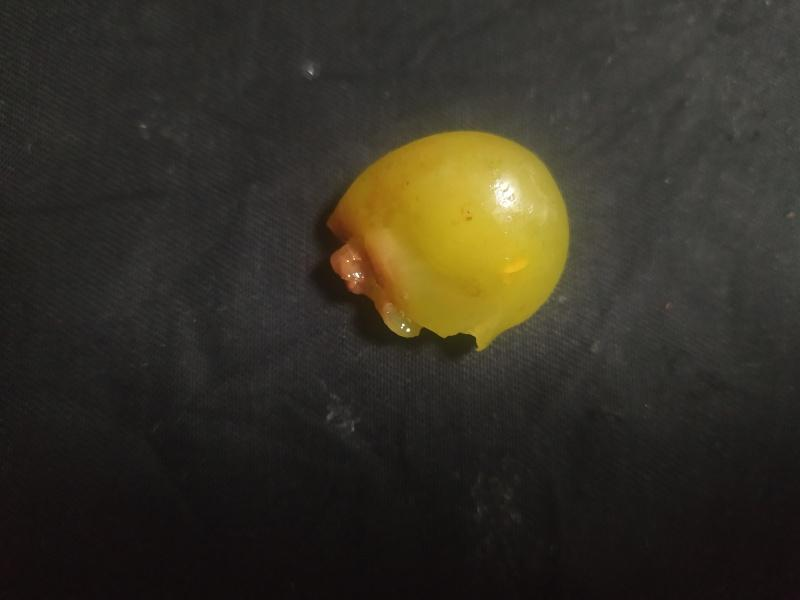Grape Overripe: (322, 124, 574, 354)
